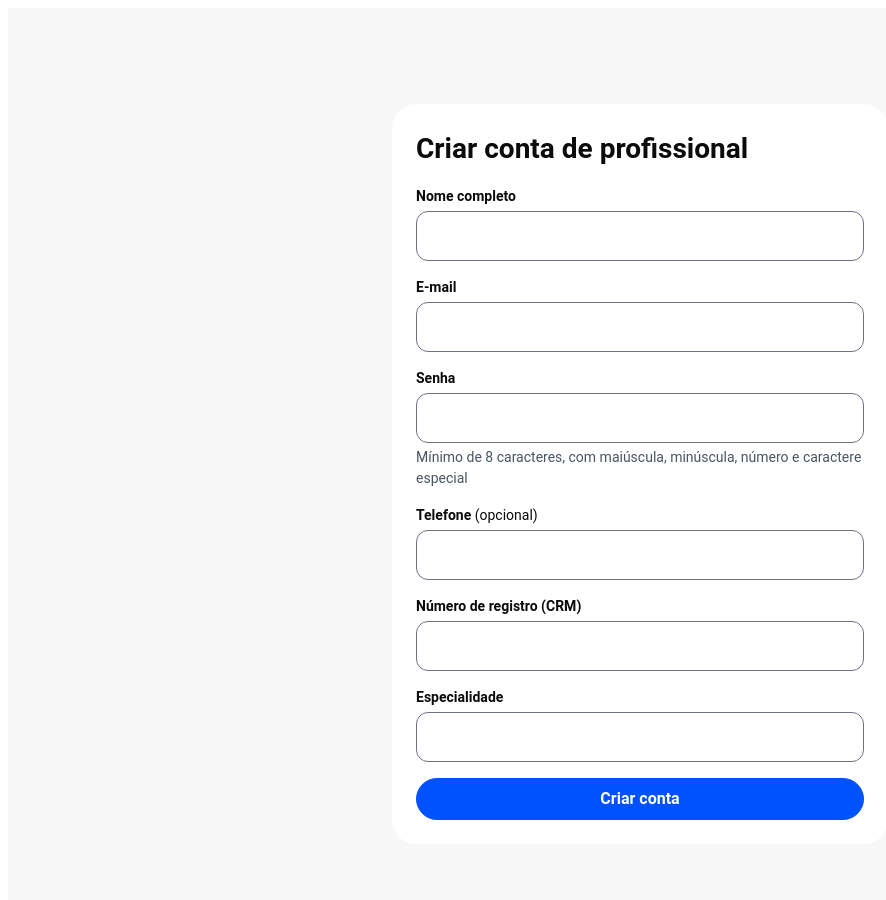
Scenario: RegisterProfessionalPage refusals (REG-02, REG-03, REG-07) › shows the message of its own for 400 WEAK_PASSWORD and keeps what was typed
The image size is (886, 900).
Expected: the password field labelled "Senha" is shown, [416, 393, 864, 443]
In the field labelled "Nome completo": point(640, 236) [416, 211, 864, 261], type "  Dra. Ana Souza "
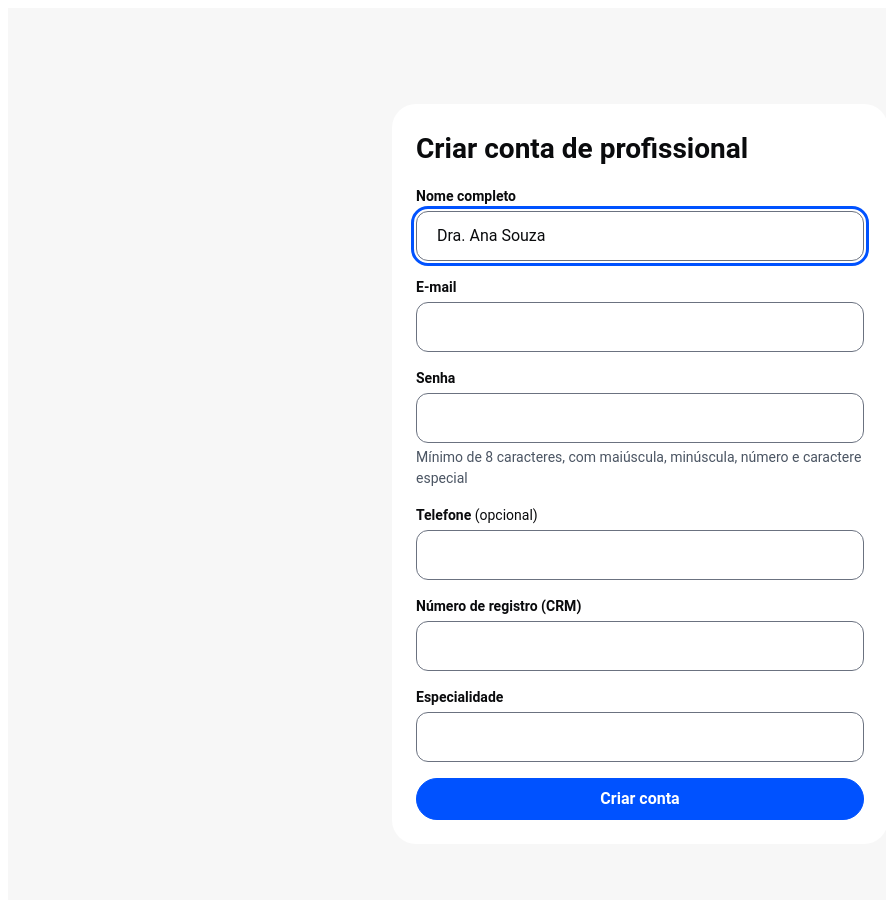
In the field labelled "E-mail": point(640, 327) [416, 302, 864, 352], type "ana@clinica.com"
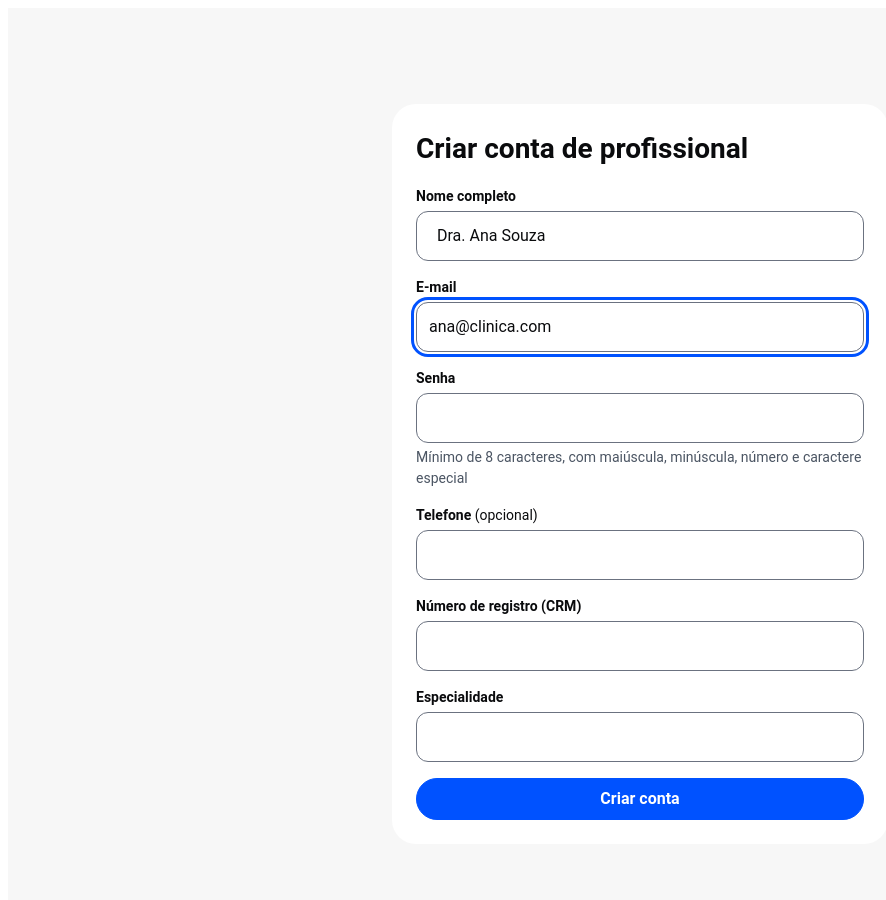
In the password field labelled "Senha": point(640, 418) [416, 393, 864, 443], type "Senha123!"
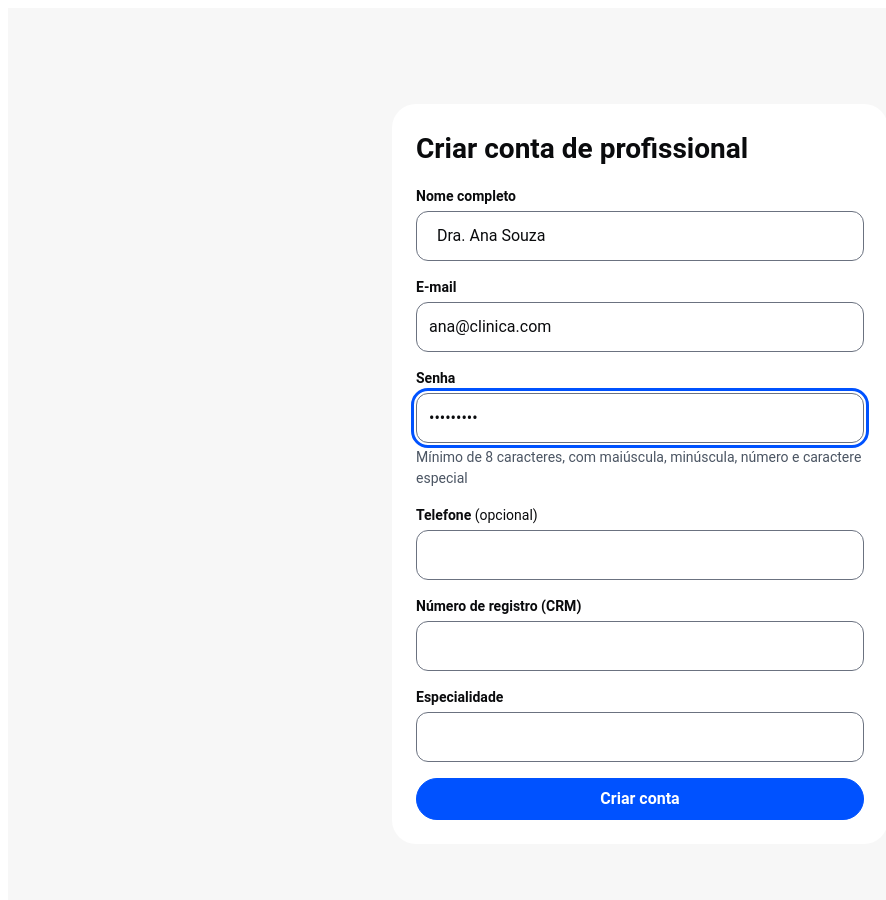
In the field labelled "Número de registro (CRM)": point(640, 646) [416, 621, 864, 671], type "CRM-SP 123456"
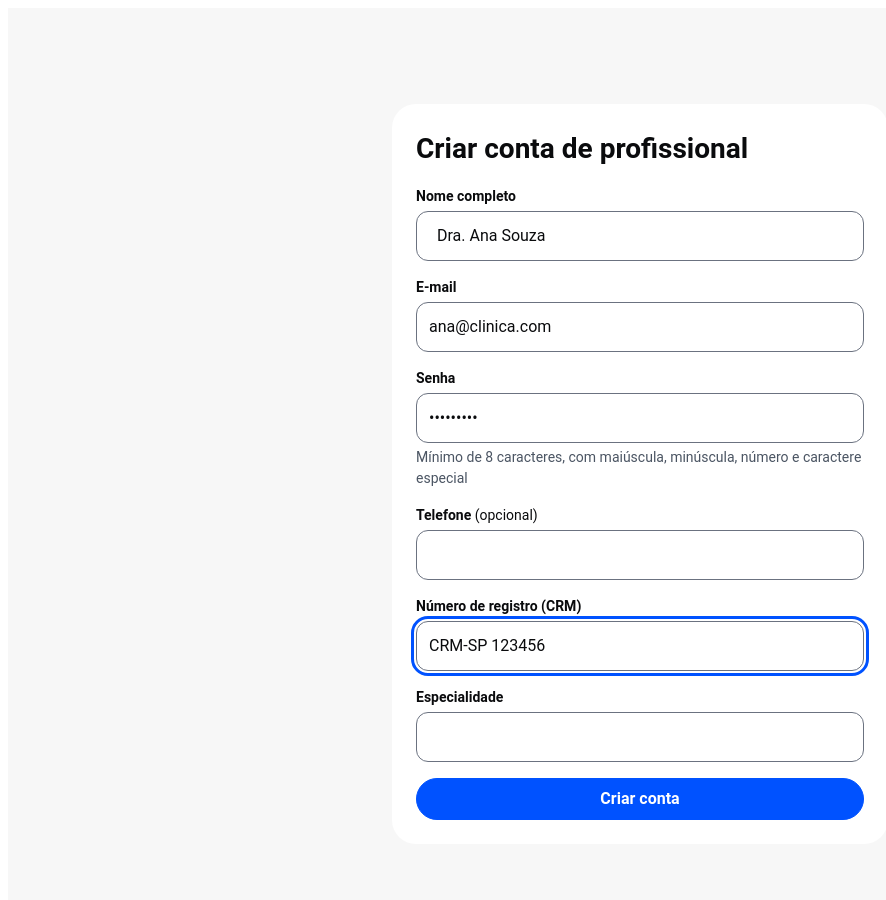
In the field labelled "Especialidade": point(640, 737) [416, 712, 864, 762], type "Endocrinologia"
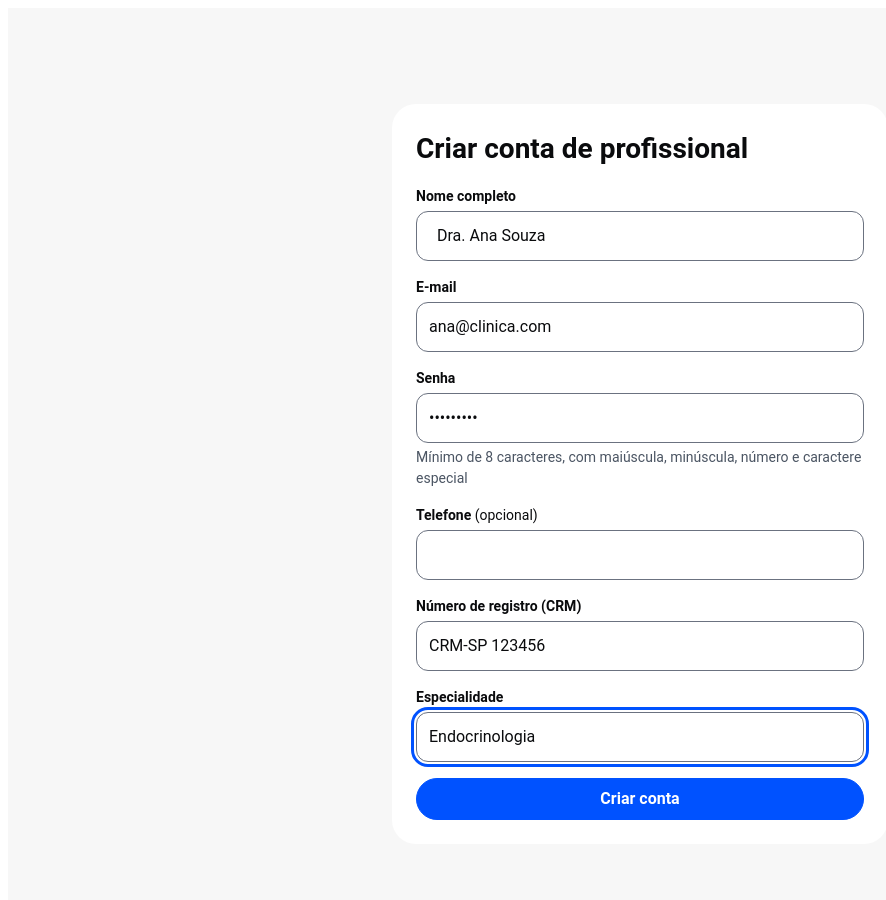
Click the button "Criar conta": point(640, 799) [416, 778, 864, 820]
(page scrolled)
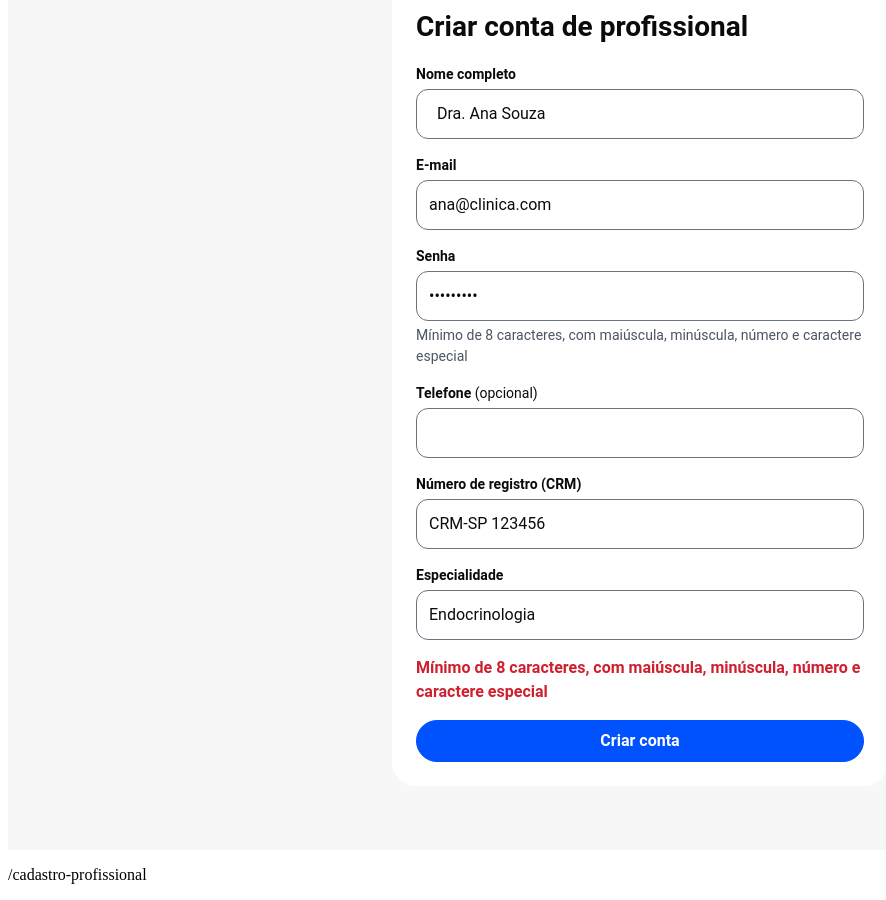
Expected: the button "Criar conta" is enabled, [416, 720, 864, 762]
Expected: the message reads "Mínimo de 8 caracteres, com maiúscula, minúscula, número e caractere especial", [416, 658, 860, 701]
